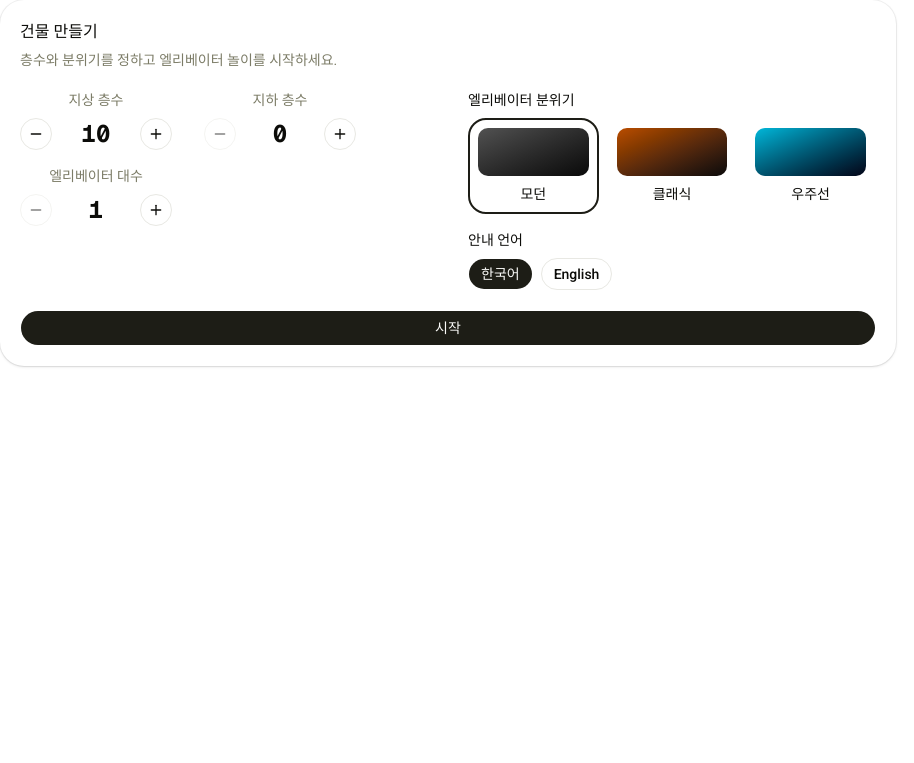
Test case: ElevatorSimulator › 설정 화면에서 시작하면 그 건물의 로비가 되고, 설정이 저장된다
Click the button "시작": (448, 328) [20,310,876,346]
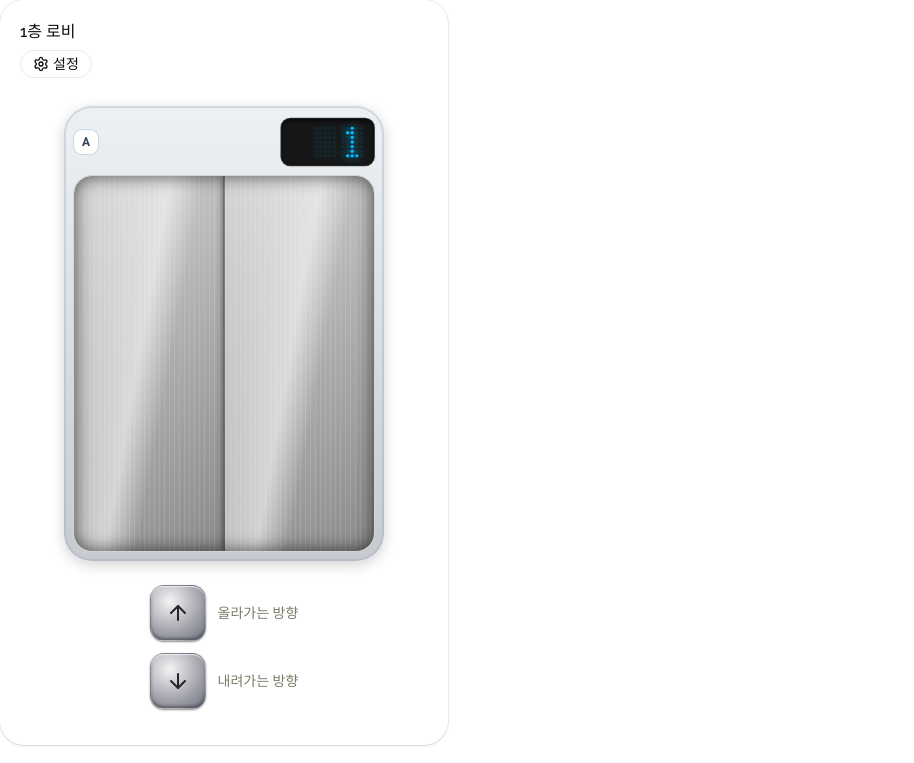
Now the heading "1층 로비" is shown, box [20,22,75,41]
